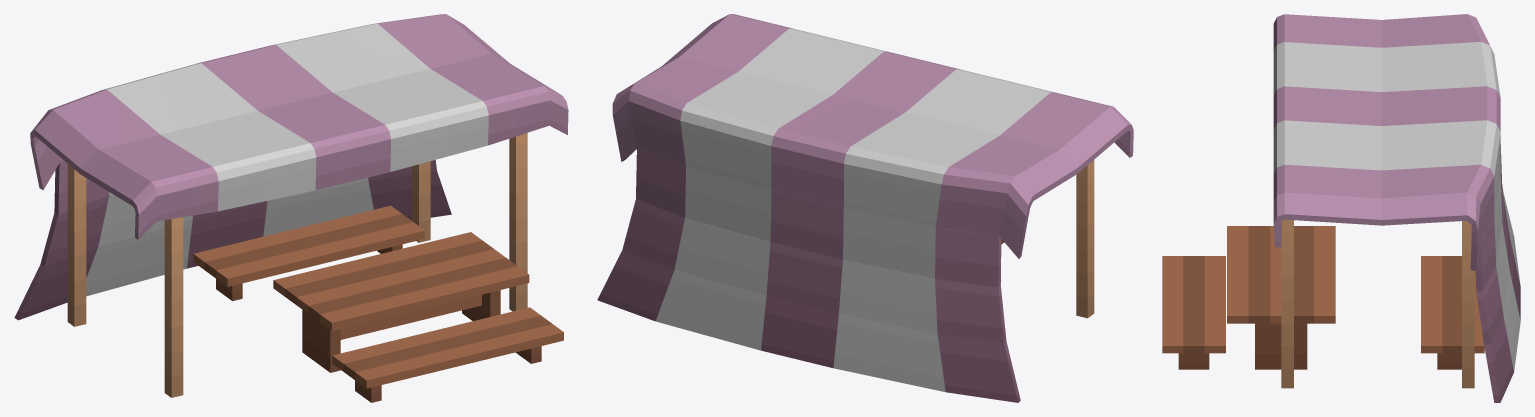
The model's file is food_tent_3.glb.
3 renders of one model, left to right at view 1: azimuth 30°, elevation 25°; view 2: azimuth 150°, elevation 25°; view 3: azimuth 270°, elevation 25°, orthographic. The views are drawn at different scales.
Visible parts, largest first — view 1: food_tent_3; view 2: food_tent_3; view 3: food_tent_3.
Boxes of the visible parts, x1=… form: food_tent_3: x1=14, y1=14, x2=568, y2=402; food_tent_3: x1=597, y1=14, x2=1133, y2=402; food_tent_3: x1=1162, y1=14, x2=1520, y2=402.
Size of the model in its own units: 6.43 by 3.1 by 4.93.
1 material, 1 textured.
